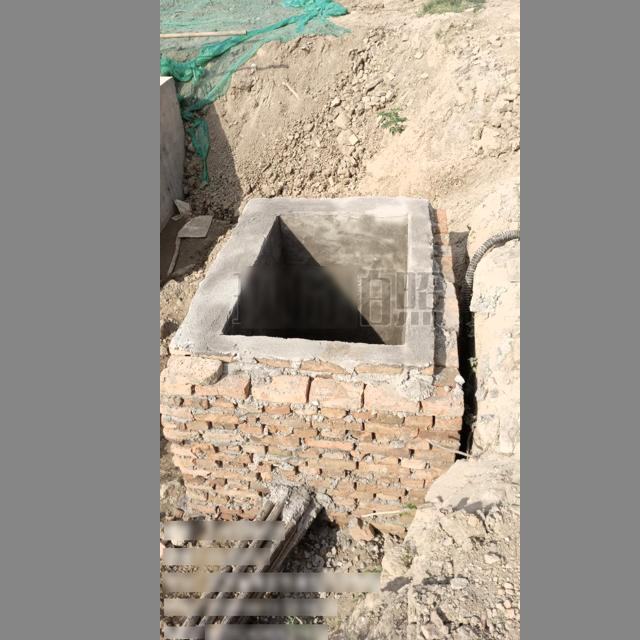lose: (170, 198, 435, 366)
